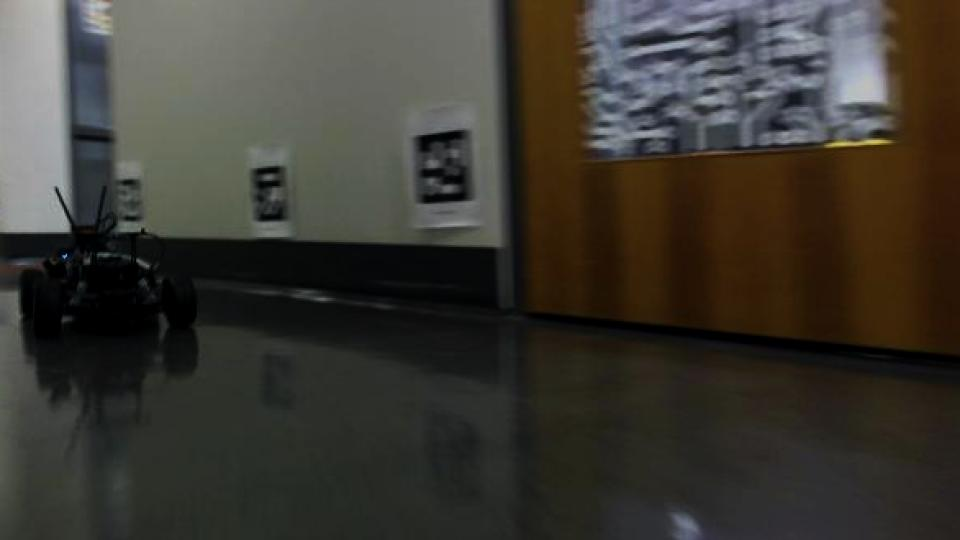car: (15, 183, 200, 341)
